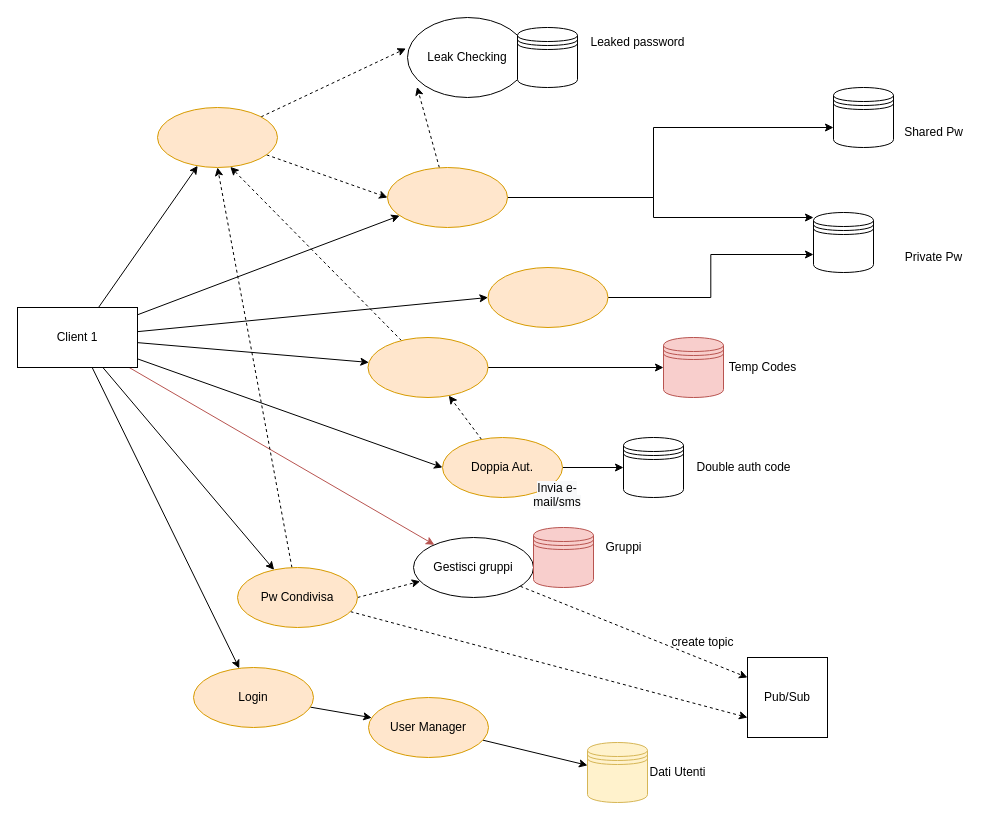
Some shapes in this 991 by 820 pixel diagram are drawn without their labels. Each missing label, with the centre of its shape:
"Listing" goes at (x=547, y=297).
"Memorizza/Modifica" goes at (x=447, y=197).
"New PW" goes at (x=217, y=137).
"Pw Temporanea" goes at (x=427, y=367).
